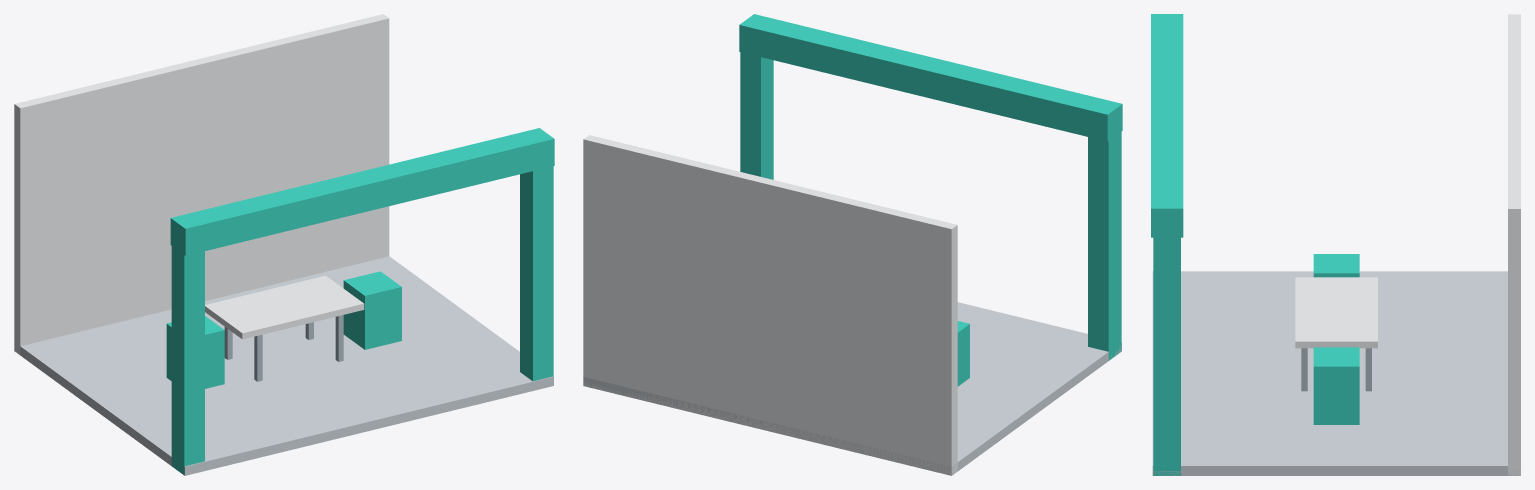
3 views of the same model, side by side, from view 1: azimuth 30°, elevation 25°; view 2: azimuth 150°, elevation 25°; view 3: azimuth 270°, elevation 25° (orthographic). The views are drawn at different scales.
Visible parts, largest first — view 1: Exhibition Booth Concept; view 2: Exhibition Booth Concept; view 3: Exhibition Booth Concept.
Part boxes in pixels (box(x1,y1,x2,y2)): Exhibition Booth Concept: box(14, 14, 554, 475); Exhibition Booth Concept: box(583, 14, 1122, 475); Exhibition Booth Concept: box(1151, 14, 1520, 475).
Bounding box in the file's own units: 5 × 3.2 × 4.02.
